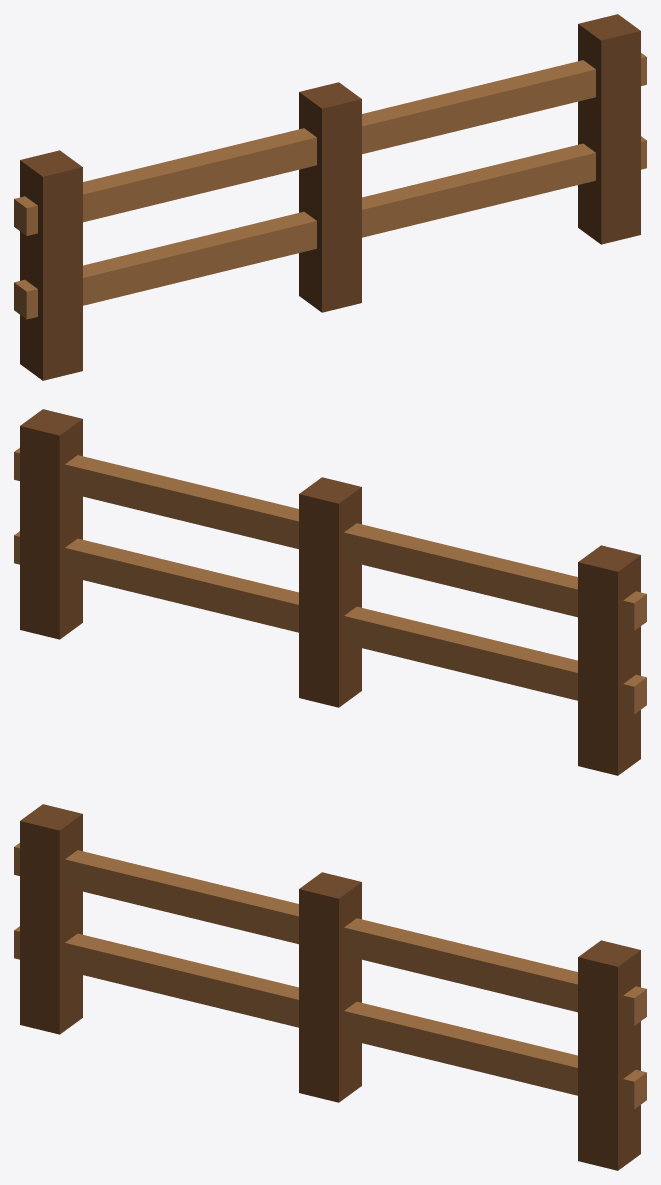
File: wood_fence.glb
3 views of the same model, one above another, from view 1: azimuth 30°, elevation 25°; view 2: azimuth 150°, elevation 25°; view 3: azimuth 330°, elevation 25° (orthographic).
Visible parts, largest first — view 1: fence_rail.001, fence_rail, fence_post, fence_post.001, fence_post.002; view 2: fence_rail.001, fence_rail, fence_post, fence_post.001, fence_post.002; view 3: fence_rail.001, fence_rail, fence_post.002, fence_post.001, fence_post.
Boxes of the visible parts, <box> form: fence_rail.001: <box>14,53,646,235</box>; fence_rail: <box>14,136,646,319</box>; fence_post: <box>20,150,82,380</box>; fence_post.001: <box>299,82,361,312</box>; fence_post.002: <box>578,14,640,244</box>; fence_rail.001: <box>14,448,646,630</box>; fence_rail: <box>14,531,646,714</box>; fence_post: <box>578,545,640,775</box>; fence_post.001: <box>299,477,361,707</box>; fence_post.002: <box>20,409,82,639</box>; fence_rail.001: <box>14,843,646,1025</box>; fence_rail: <box>14,926,646,1109</box>; fence_post.002: <box>578,940,640,1170</box>; fence_post.001: <box>299,872,361,1102</box>; fence_post: <box>20,804,82,1034</box>.
Size of the model in its own units: 1.4 by 0.44 by 0.09.
